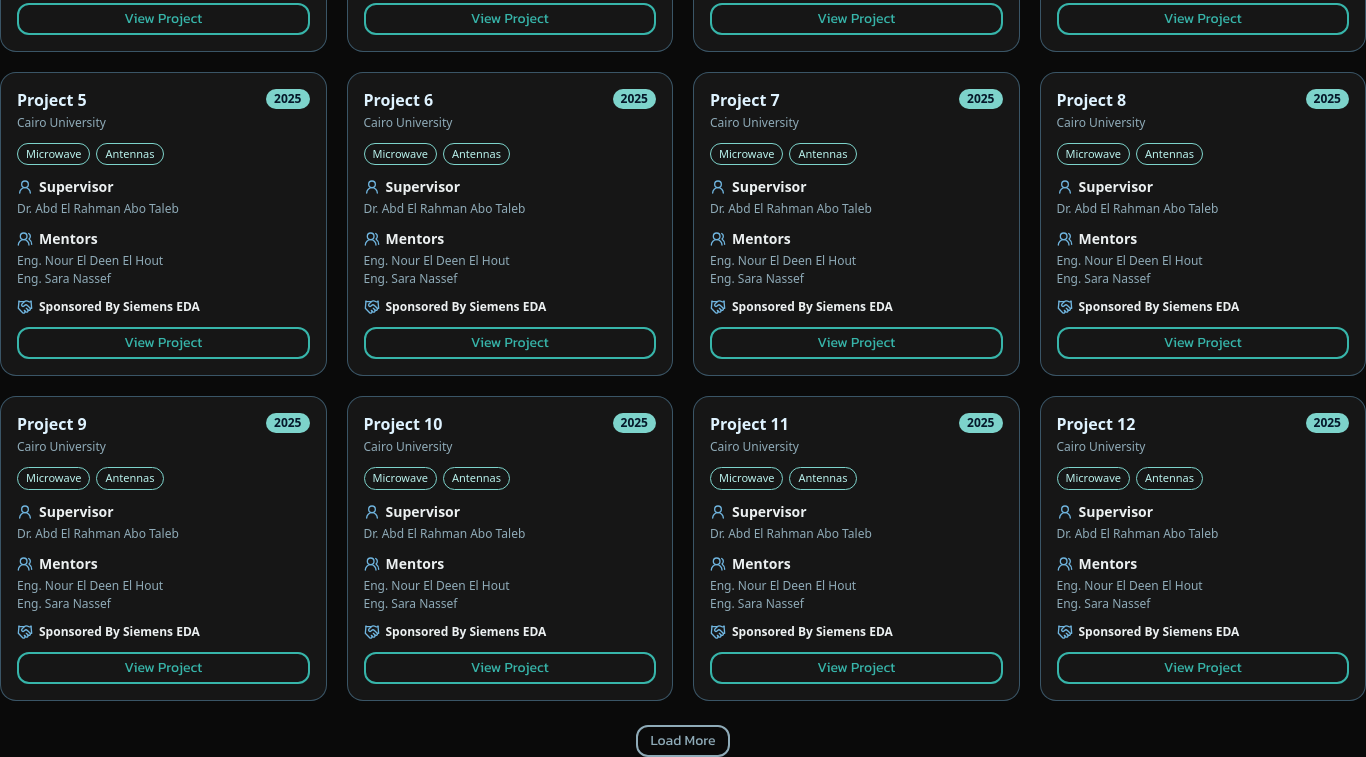
Test case: ProjectsExplorer › appends the next page with Load More and hides it at the end
(page scrolled)
Click the button "Load More".
click(683, 740)  # box left=636, top=724, right=730, bottom=756
(page scrolled)
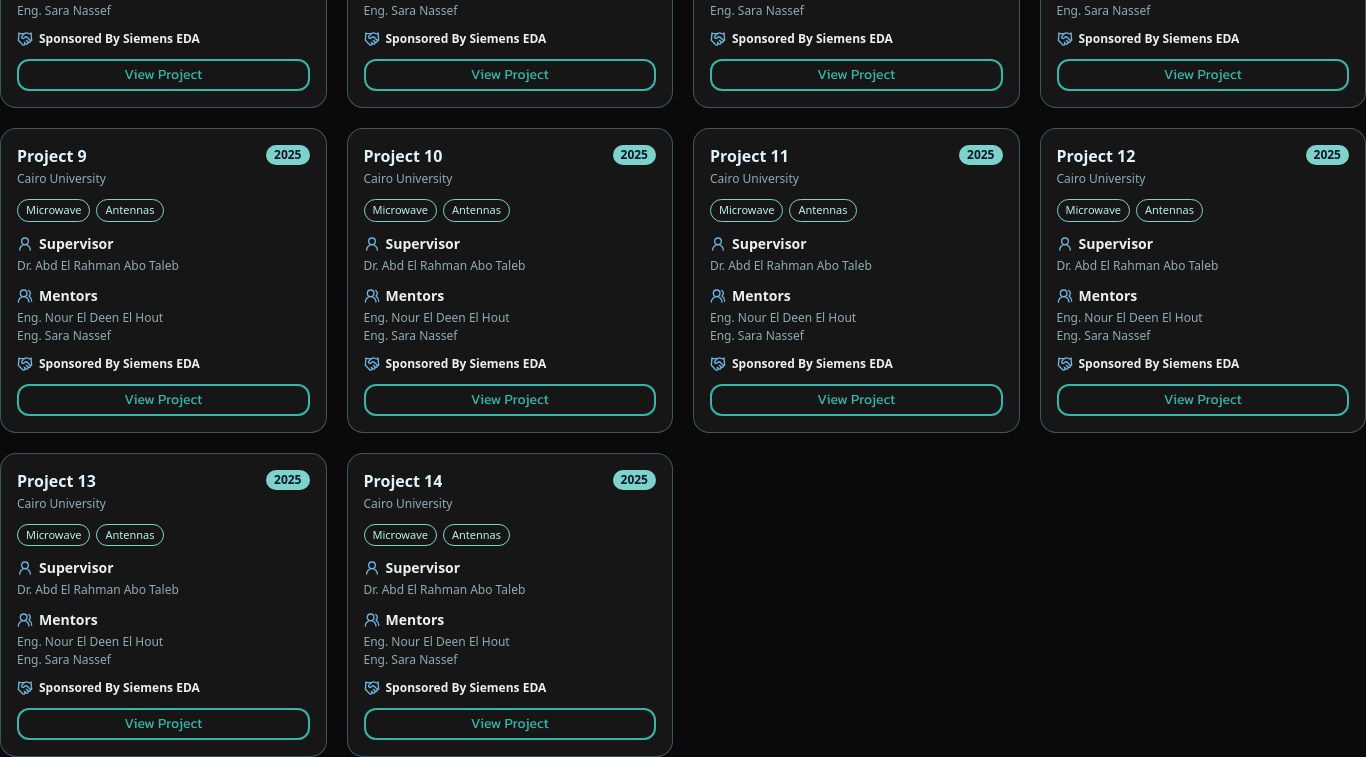
Now the element "Project 14" is shown, box left=346, top=452, right=673, bottom=756
Now the button "Load More" is gone
